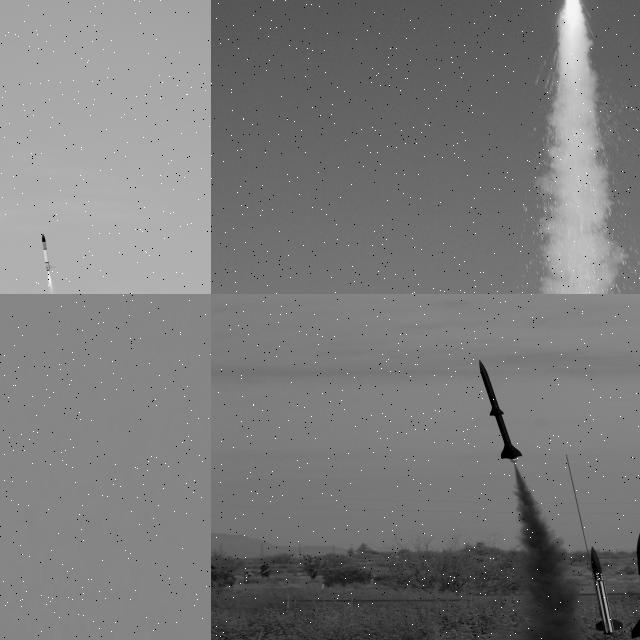Rocket: (479, 359, 524, 461), (590, 546, 624, 636), (631, 531, 640, 640), (41, 233, 56, 271)
